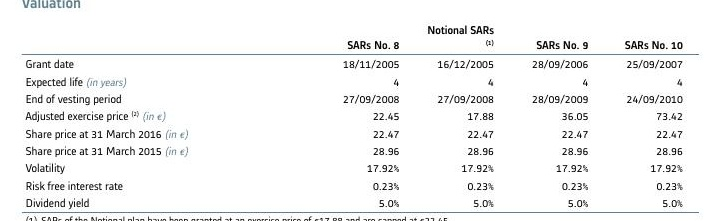table: (0, 0, 722, 221)
